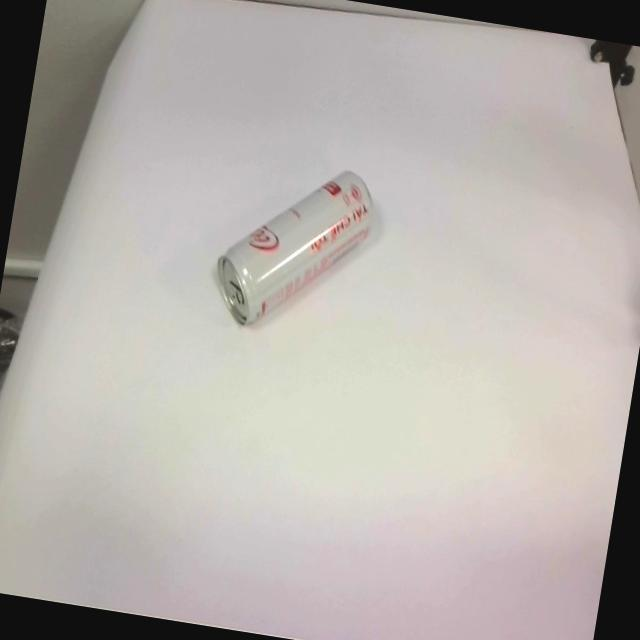debris: (204, 151, 382, 347)
